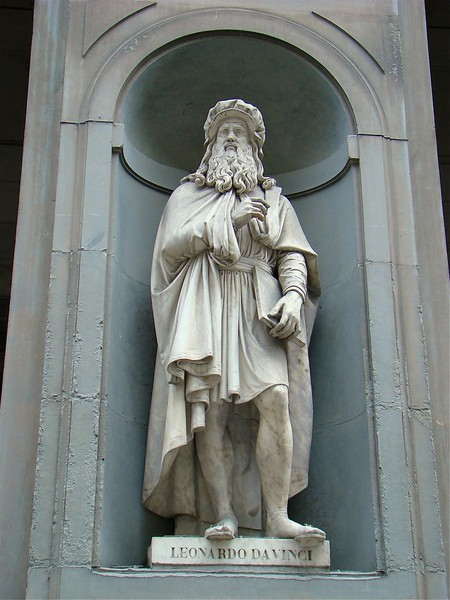person-like: (136, 91, 334, 556)
